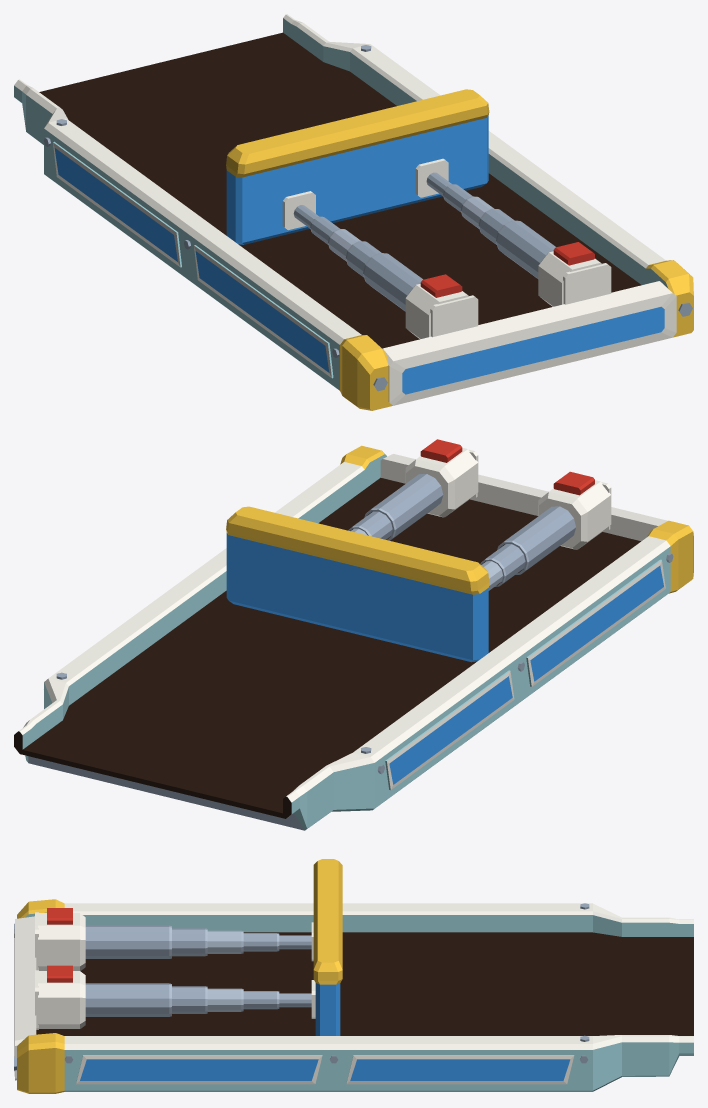
Rendered from RamFeeder.glb.
The picture shows the model from 3 angles, top to bottom: view 1: azimuth 30°, elevation 25°; view 2: azimuth 150°, elevation 25°; view 3: azimuth 270°, elevation 25°; orthographic projection. The views are drawn at different scales.
Parts seen in each view (by area): view 1: FeederFrame, Pusher, Sleeves01, Sleeves02, Sleeves03; view 2: FeederFrame, Pusher, Sleeves01; view 3: FeederFrame, Pusher, Sleeves01, Sleeves02, Sleeves03.
Boxes of the visible parts, x1,y1,x2,y2 form: FeederFrame: [14, 14, 693, 410]; Pusher: [226, 89, 489, 244]; Sleeves01: [345, 208, 514, 277]; Sleeves02: [328, 196, 494, 261]; Sleeves03: [310, 184, 472, 244]; FeederFrame: [14, 439, 693, 830]; Pusher: [226, 506, 489, 662]; Sleeves01: [348, 511, 525, 586]; FeederFrame: [14, 899, 693, 1093]; Pusher: [279, 859, 342, 1035]; Sleeves01: [172, 928, 207, 1013]; Sleeves02: [207, 930, 243, 1011]; Sleeves03: [243, 933, 279, 1009].
Bounding box in the file's own units: 2.2 × 0.7756 × 4.31.
Materials: 1 (1 with a texture image).
